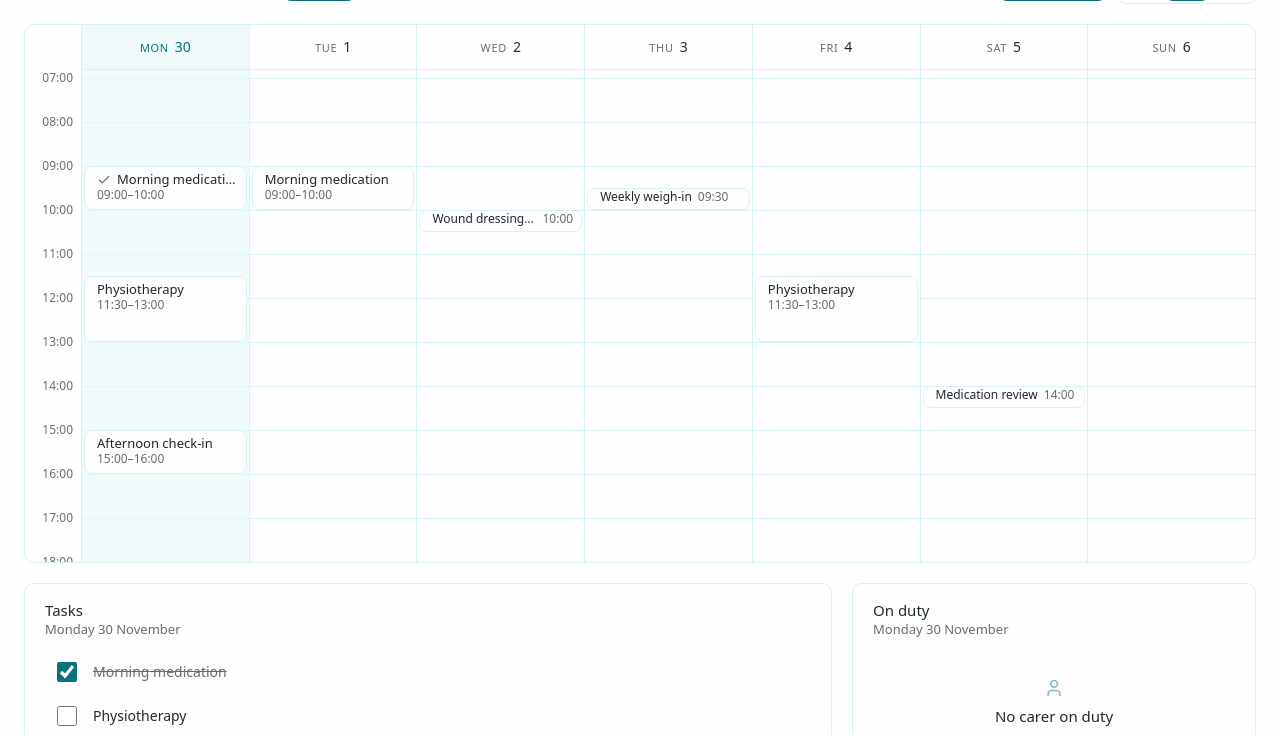
Test: [FAM-05][AC-02] a failed save reverts the tick › [FAM-05][AC-02] a new tick clears the previous attempt's error
(page scrolled)
Click the checkbox labelled "Physiotherapy".
click(67, 716)  # box [57, 706, 77, 726]
(page scrolled)
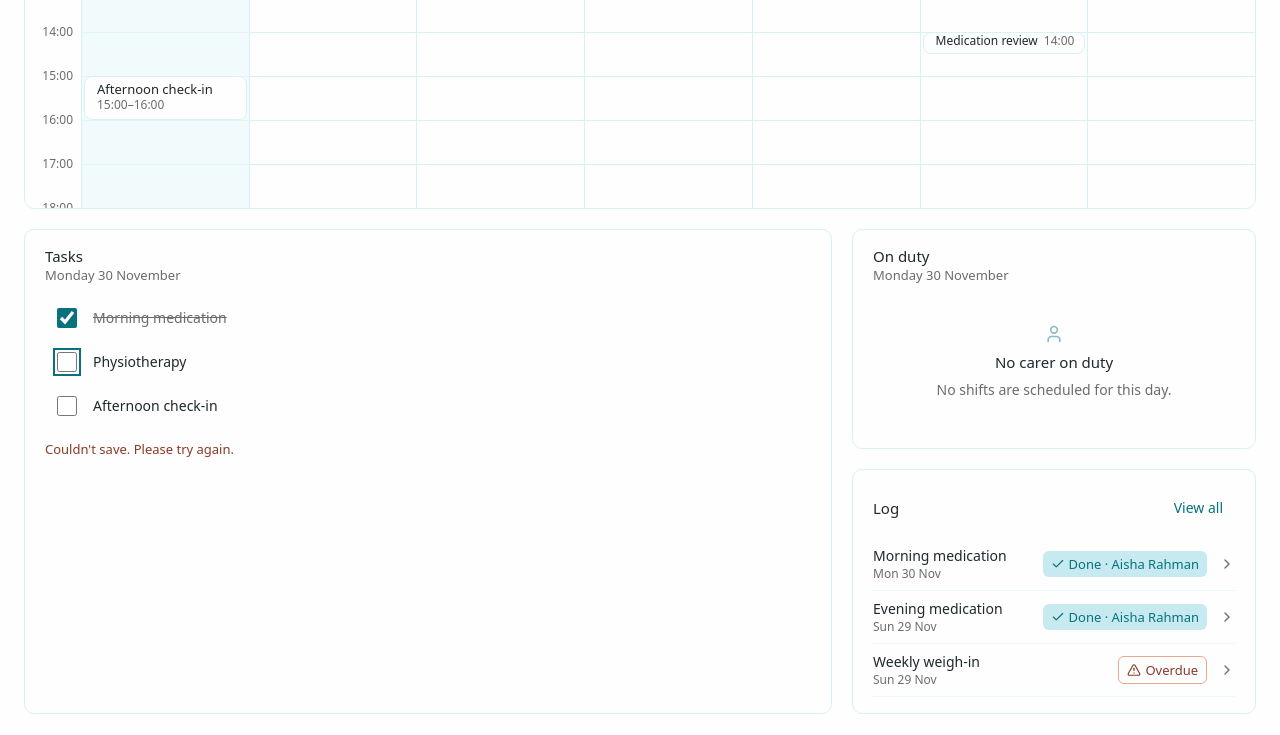
Now the text "Couldn't save. Please try again." is shown, box [45, 440, 234, 458]
Click the checkbox labelled "Afternoon check-in".
click(67, 406)  # box [57, 396, 77, 416]
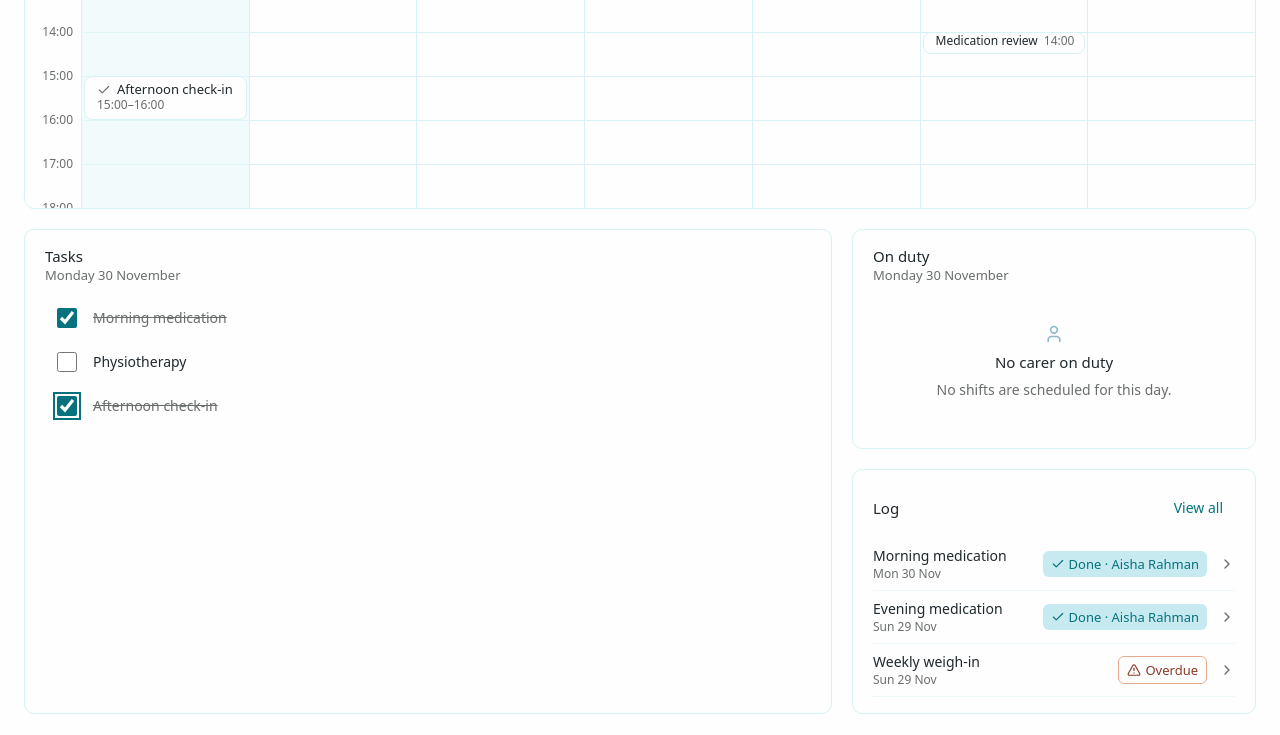
Now the text "Couldn't save. Please try again." is gone
